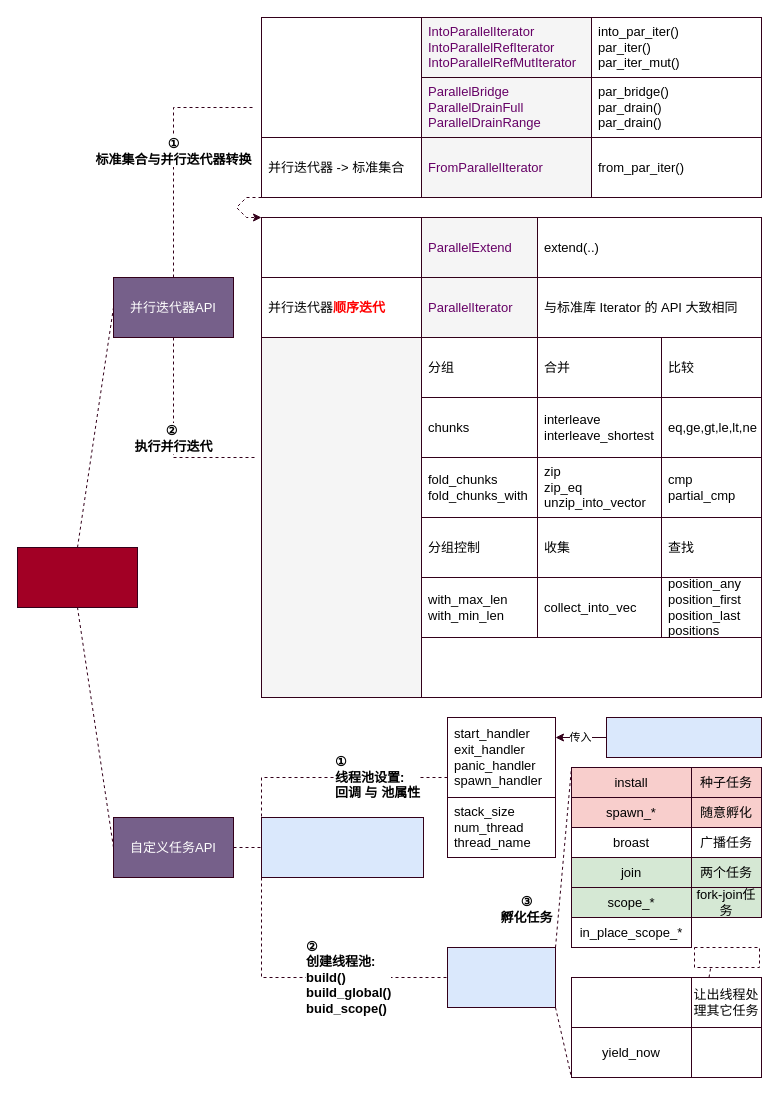
Some shapes in this 779 by 1096 pixel diagram are drawn without their labels. The box of each missing label's shape, as (x1, y1, x2, y2) in pixels:
RAYON API 入门导图: (16, 546, 138, 608)
ThreadBuilder: (606, 716, 762, 758)
ThreadPool: (446, 946, 556, 1008)
ThreadPoolBuilder<S> S = DefaultSpawn: (260, 816, 424, 878)
yield_local: (570, 976, 692, 1028)
会窃取任务: (694, 946, 760, 968)
元素筛选: skip,take,step_by,添加索引: enumerate: (420, 636, 762, 698)
并行迭代器 随机迭代 IndexedParalleliterator 与顺序迭代区别: 提供了分组与合并这些需要利用索引的API: (260, 336, 422, 698)
并行迭代器元素扩展: (260, 216, 422, 278)
标准集合 -> 并行迭代器: (260, 16, 422, 138)
让出线程 不窃取任务: (690, 1026, 762, 1078)
